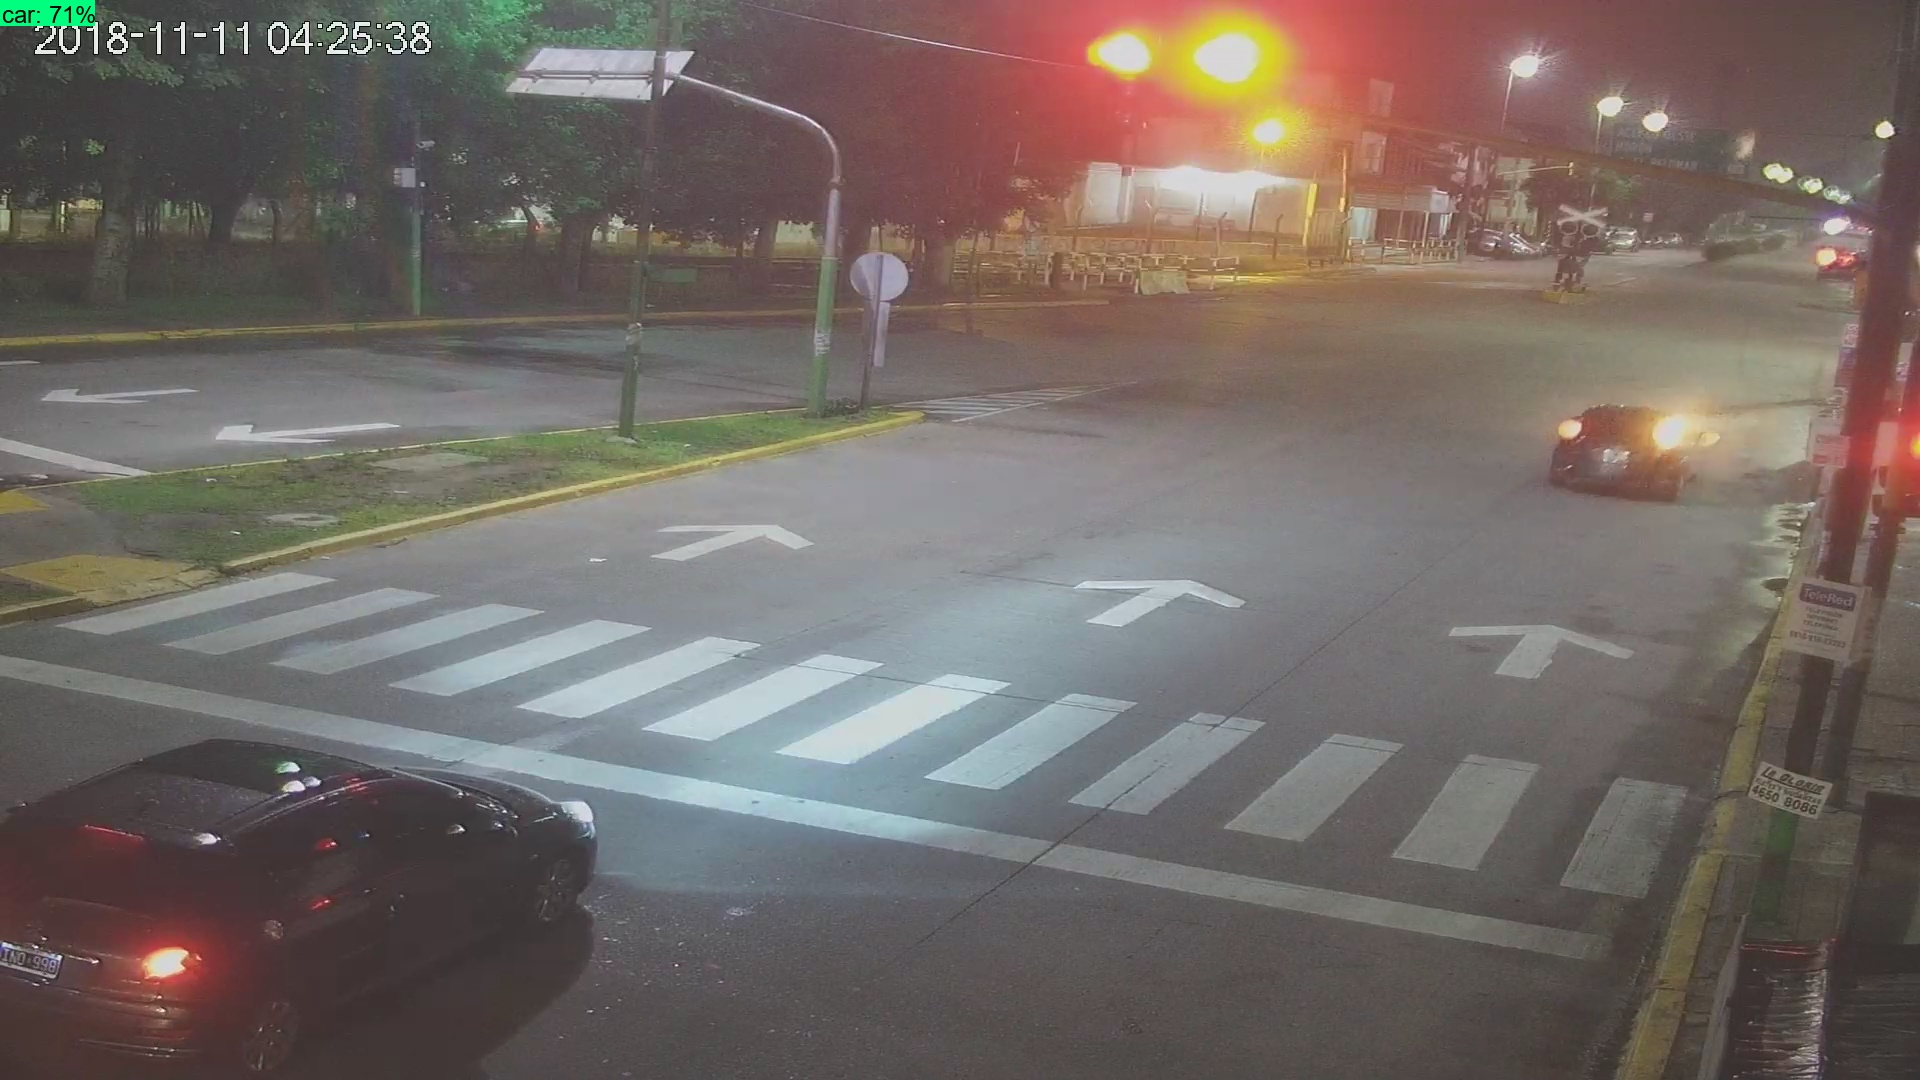car: (8, 742, 604, 1080), (1548, 405, 1701, 512)
